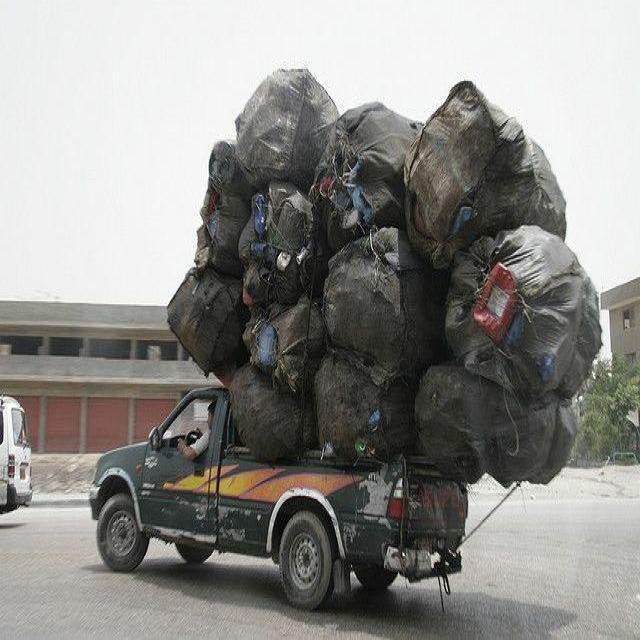covered: (100, 75, 596, 567)
